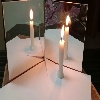fire: (61, 25, 65, 41)
